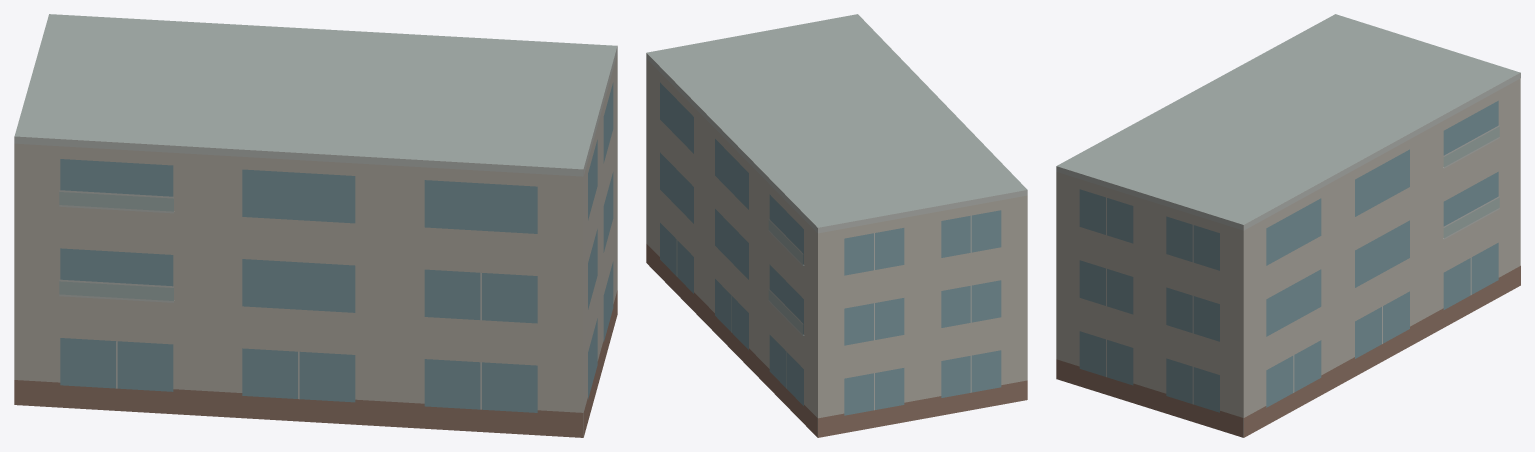
The model's file is survey-upis-32483485.glb.
3 views of the same model, side by side, from view 1: azimuth 30°, elevation 25°; view 2: azimuth 150°, elevation 25°; view 3: azimuth 270°, elevation 25° (orthographic). The views are drawn at different scales.
Parts seen in each view (by area): view 1: survey-upis-32483485.tmp; view 2: survey-upis-32483485.tmp; view 3: survey-upis-32483485.tmp.
Boxes of the visible parts, x1,y1,x2,y2 form: survey-upis-32483485.tmp: (14, 14, 617, 437); survey-upis-32483485.tmp: (646, 14, 1027, 437); survey-upis-32483485.tmp: (1056, 14, 1520, 437).
Bounding box in the file's own units: 19.46 × 9.15 × 18.1.
